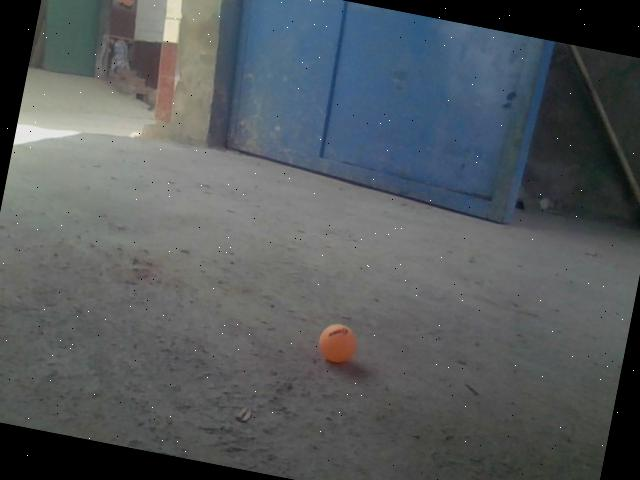ball: (316, 321, 360, 365)
